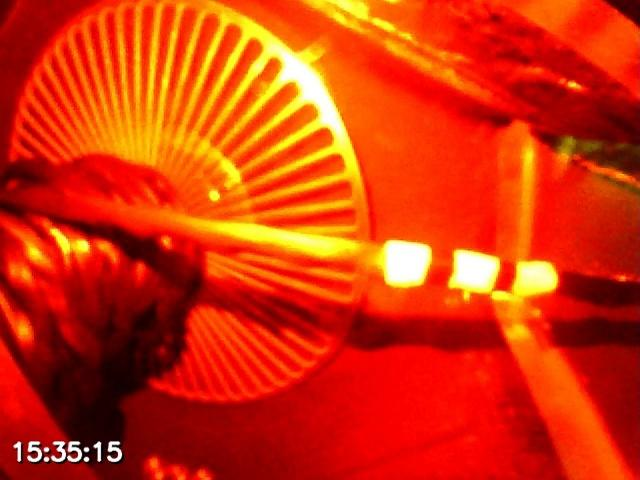white-dots: (379, 238, 559, 298)
